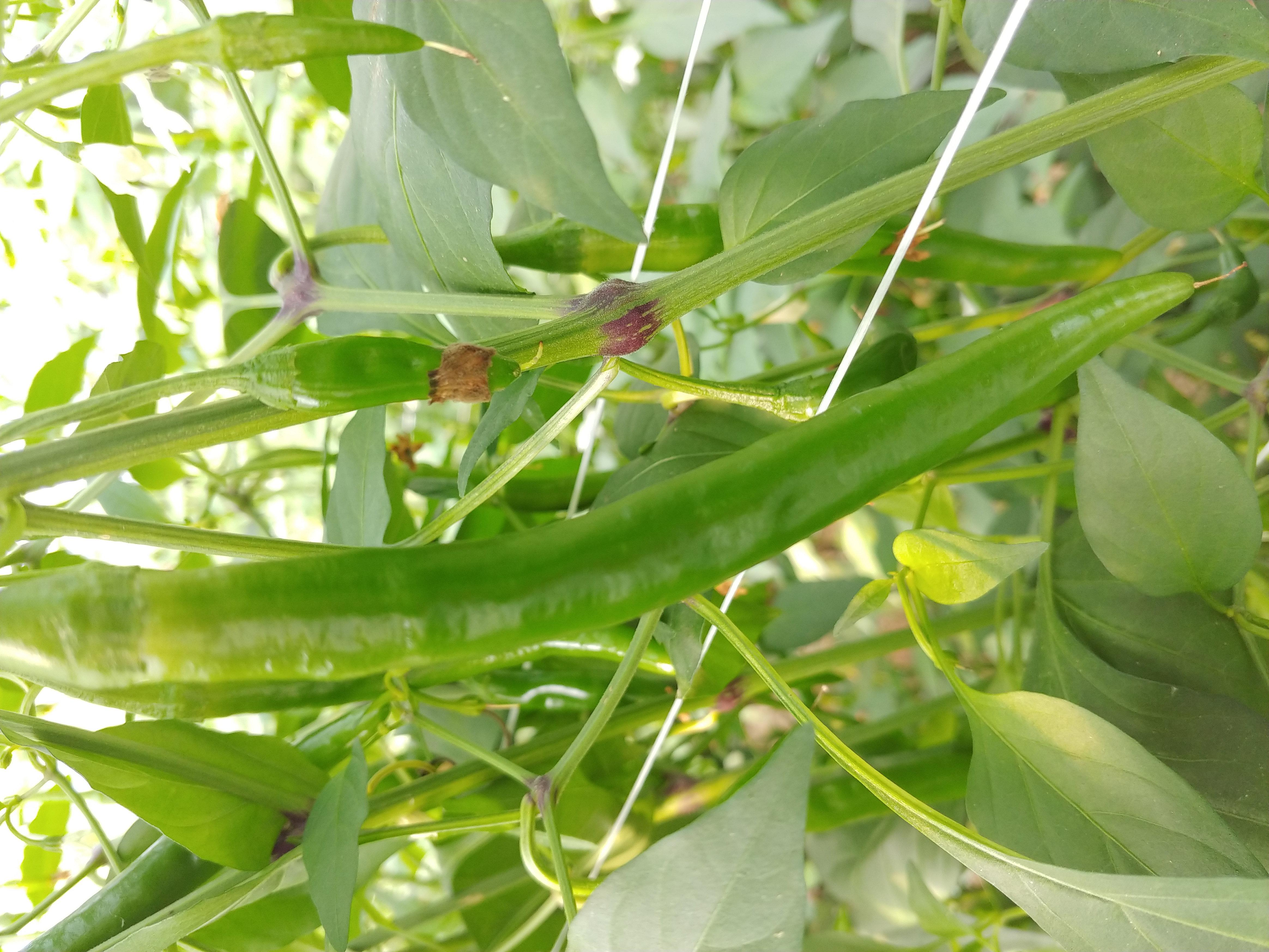Buah Cabai Sehat: (19, 263, 1198, 689)
